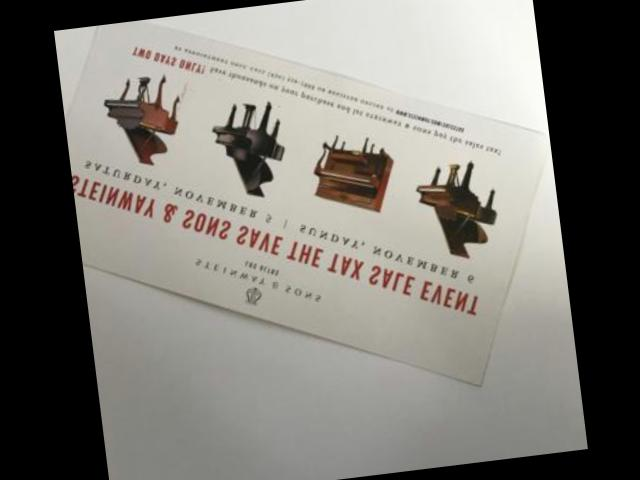cardboard paper: (63, 21, 542, 383)
